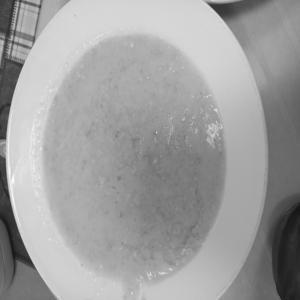porridge: (26, 35, 242, 284)
